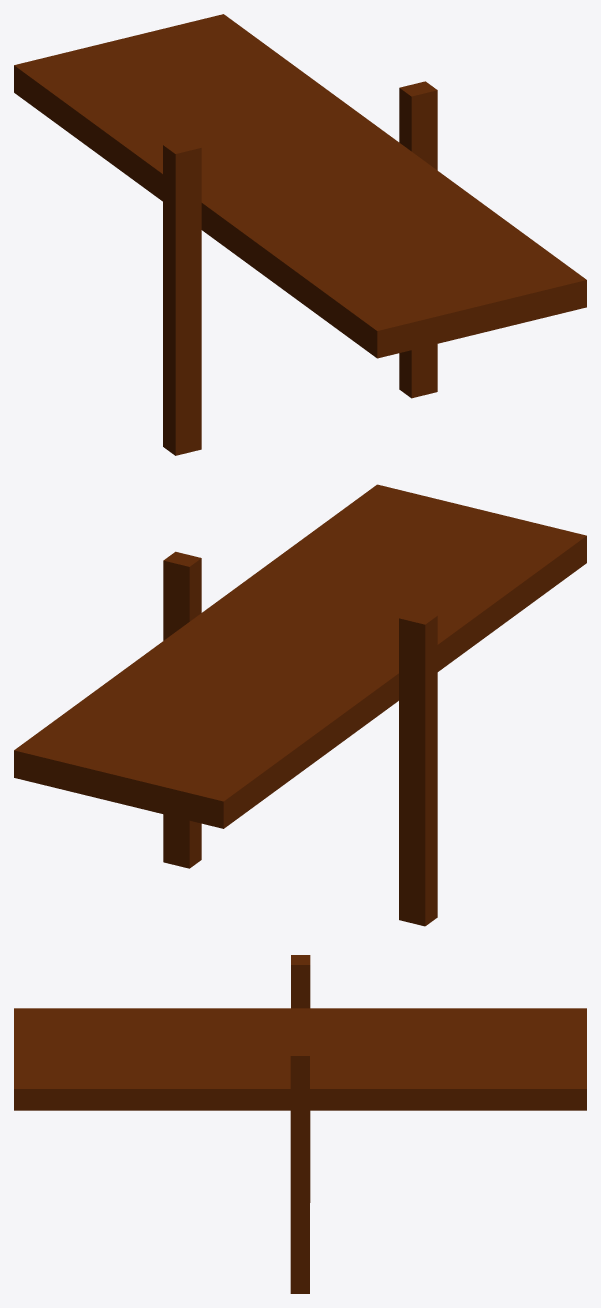
Rendered from NivekBridge.glb.
3 renders of one model, top to bottom at view 1: azimuth 30°, elevation 25°; view 2: azimuth 150°, elevation 25°; view 3: azimuth 270°, elevation 25°, orthographic. The views are drawn at different scales.
Parts seen in each view (by area): view 1: NivekBridge; view 2: NivekBridge; view 3: NivekBridge.
Boxes of the visible parts, x1,y1,x2,y2 form: NivekBridge: (14, 14, 586, 455); NivekBridge: (14, 484, 586, 926); NivekBridge: (14, 955, 586, 1293).
Size of the model in its own units: 2.5 by 2.75 by 6.
Materials: 1 (1 with a texture image).
